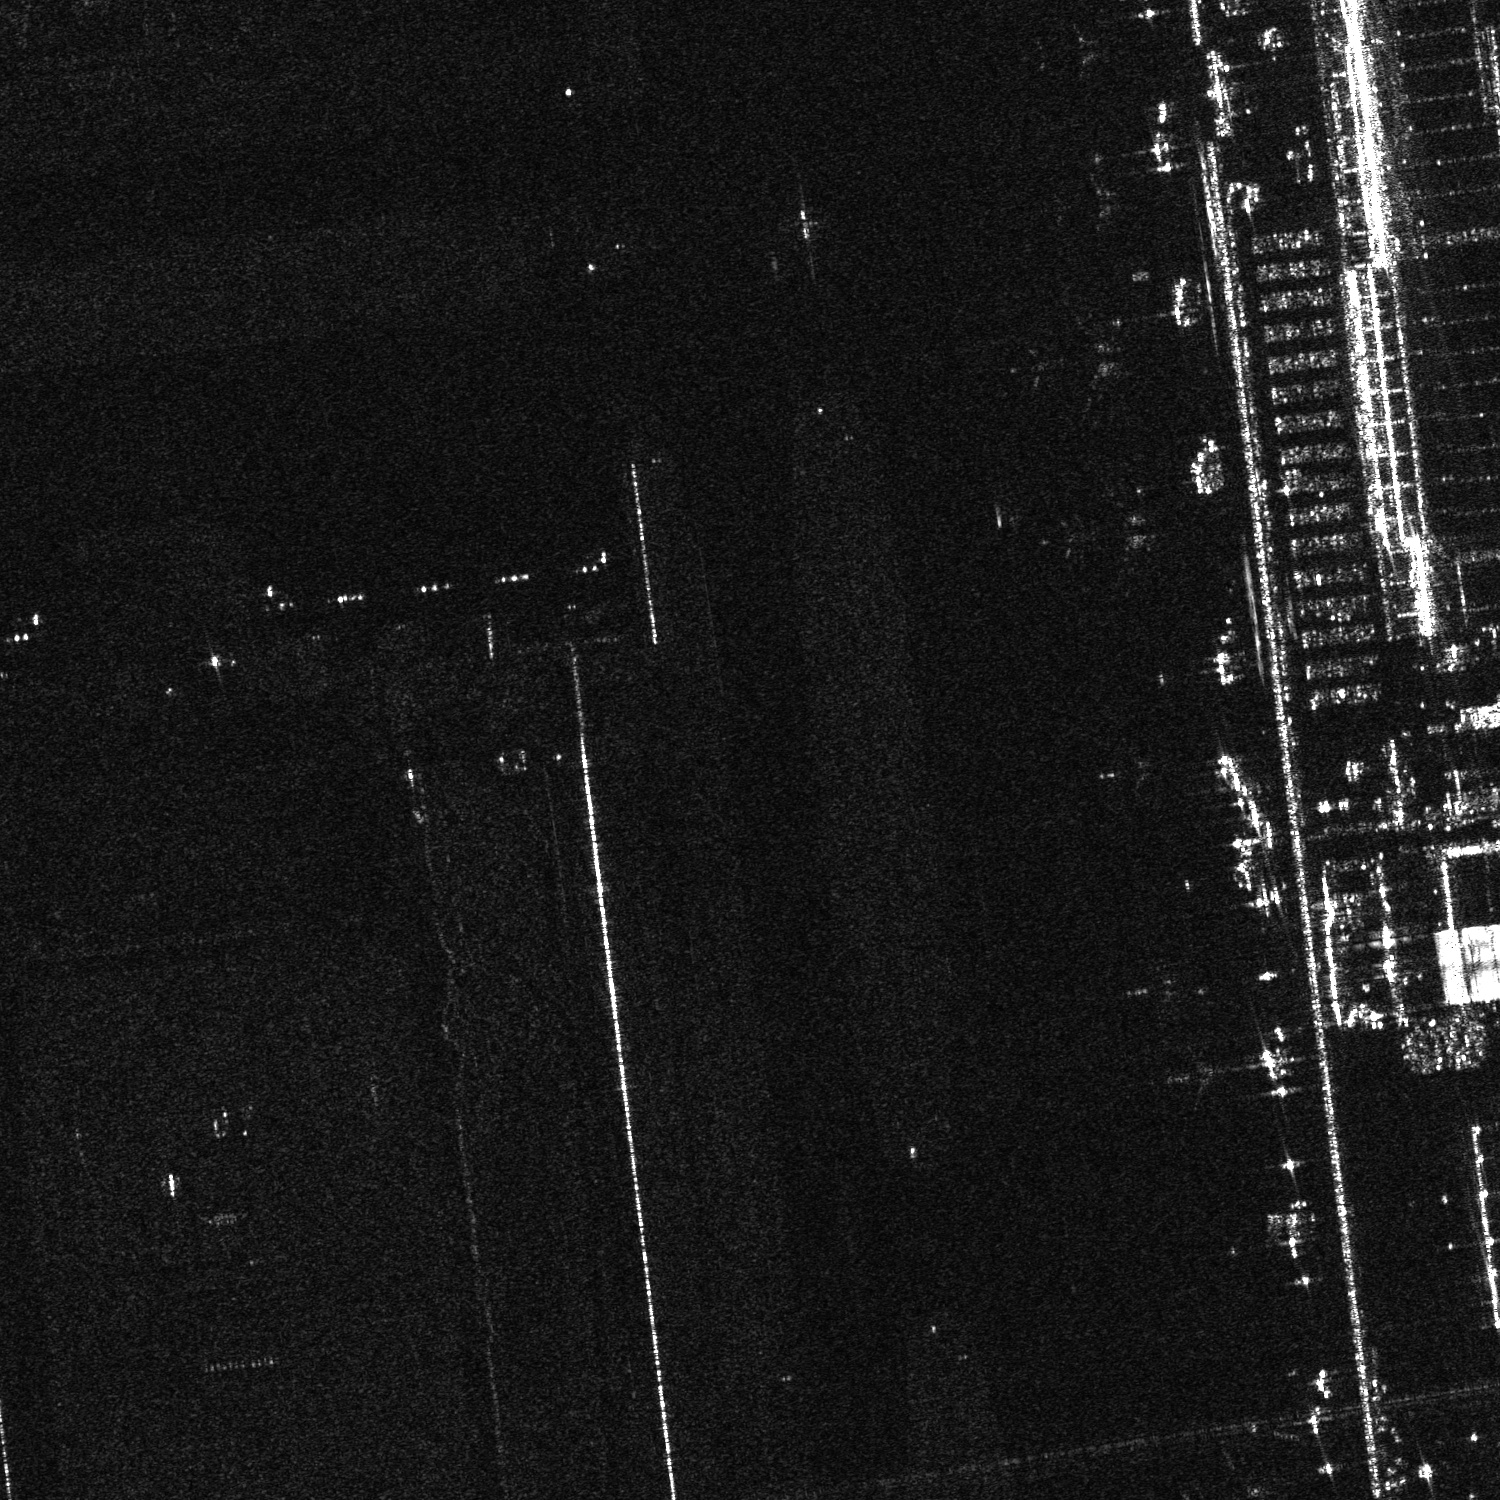A220: (1163, 1038, 1229, 1113)
Boeing787: (1010, 305, 1135, 424), (1056, 479, 1159, 591), (1162, 1452, 1291, 1499), (1033, 10, 1114, 80), (1054, 169, 1129, 229), (1092, 738, 1162, 797)
